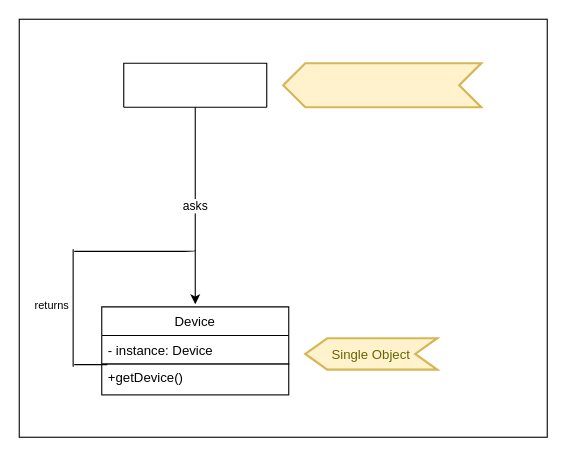
The diagram is 567 pixels wide and 457 high, and some of its shapes have lost their labels. Each missing label, with the centre of its shape:
Device Listener: (195,84)
Singleton Pattern Demo: (382,85)
